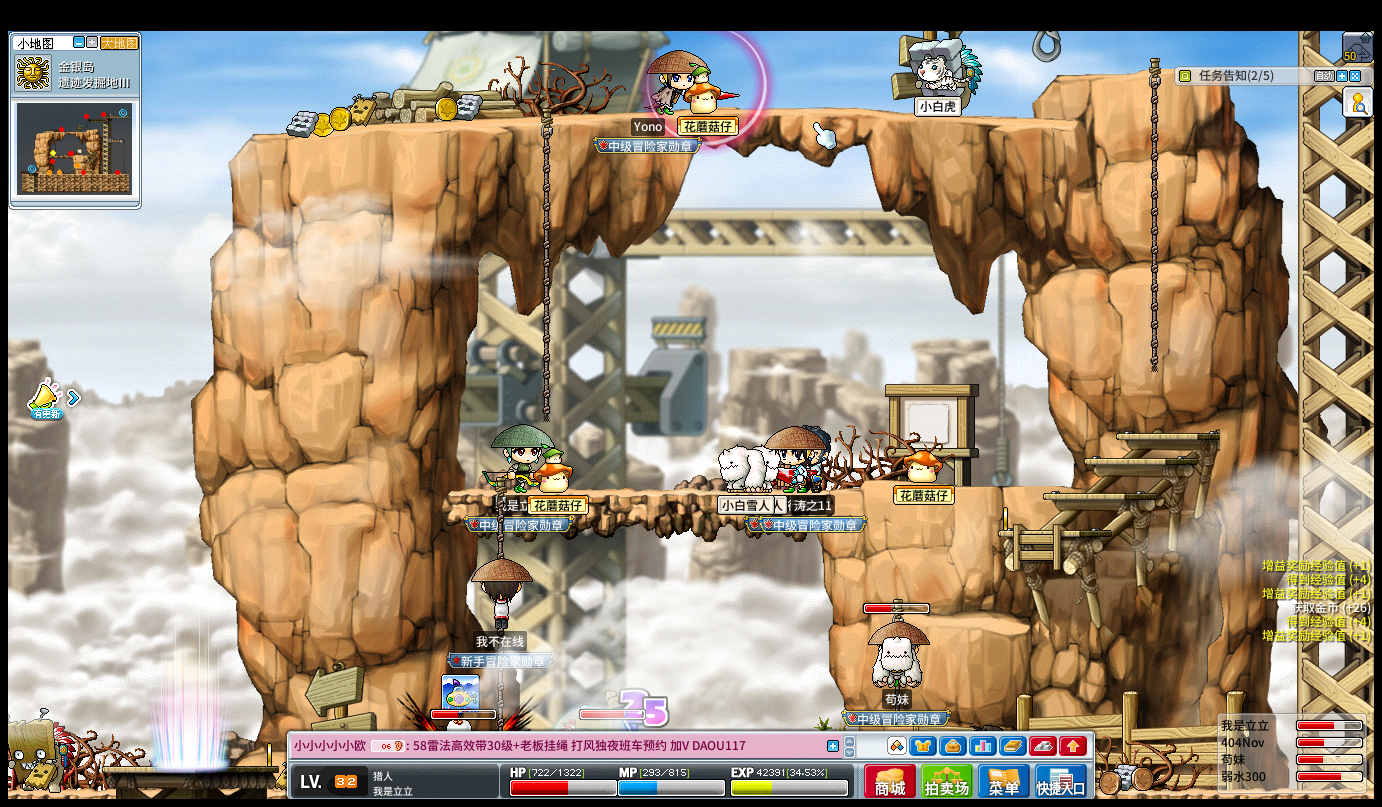floor: (246, 106, 1083, 139), (454, 488, 816, 499), (927, 613, 1029, 634), (1055, 64, 1174, 78), (955, 482, 1081, 493), (1116, 429, 1220, 441), (997, 528, 1110, 537), (1078, 456, 1198, 464), (1042, 492, 1157, 500)
monster: (5, 712, 77, 791)
rope: (1146, 57, 1161, 371), (540, 107, 552, 423), (493, 490, 503, 560)
